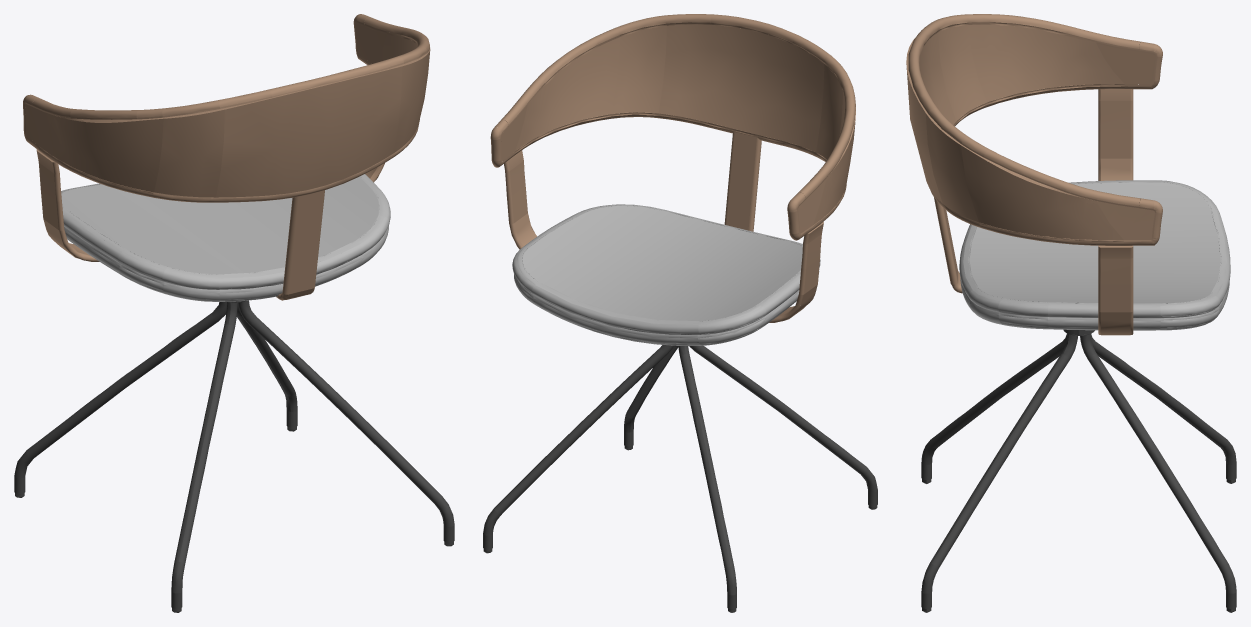
Rendered from Essens Guest Chair.glb.
3 renders of one model, left to right at view 1: azimuth 30°, elevation 25°; view 2: azimuth 150°, elevation 25°; view 3: azimuth 270°, elevation 25°, orthographic. The views are drawn at different scales.
Parts seen in each view (by area): view 1: df989755-7697-4281-a469-14dab05ba5bf_mesh, 472e654b-b107-49b1-8f86-f32826c59a6b_mesh, ab5e10d4-3391-4d24-b1c9-0751b053f0e9_mesh, 65fbc329-5df1-43a7-a289-01534ec56977_mesh, 750cd217-ddae-4460-a5b8-6173e38afa8a_mesh, 2ac7c728-b501-4d92-9ba9-fa154b108b98_mesh, fcffaa4b-a50d-4239-be34-0ad43009071a_mesh, a0c15469-69cb-4008-8df0-9f4902f4c43c_mesh, 4557552d-5c5f-4325-881a-13418b869237_mesh, d65b2289-8940-4a07-b37a-94c6dbf753d3_mesh, 8229e860-2eda-47fc-b237-6de005225120_mesh, 5af8cabd-0a71-4e95-abd0-315912813c74_mesh (+8 smaller); view 2: df989755-7697-4281-a469-14dab05ba5bf_mesh, d39a46cd-2aa3-4b28-b462-6483d8e16e1d_mesh, 65d6b023-7110-4155-bdcf-e92aceaf49bc_mesh, a792d43e-5e61-4ff9-a389-eb07f65f3beb_mesh, dc03fbe6-7523-40bb-8a69-6e8c78cfa367_mesh, e51619b5-43e4-4c76-9559-52b5398546bd_mesh, 8229e860-2eda-47fc-b237-6de005225120_mesh, c6d45098-28c5-46a1-925a-6c357a730522_mesh, caf584e6-b206-4962-9130-6b76134c65a5_mesh, edae9f56-733e-47d4-83b4-dd0292d68fbf_mesh, ab5e10d4-3391-4d24-b1c9-0751b053f0e9_mesh, d29ce7c8-0c7b-4e83-aaf1-3041b3dee3bd_mesh (+11 smaller); view 3: df989755-7697-4281-a469-14dab05ba5bf_mesh, 978d27aa-4005-4933-8d30-a75a227fa3e0_mesh, b74d9bd9-2ed8-4150-a5bb-8c265e19f377_mesh, caf584e6-b206-4962-9130-6b76134c65a5_mesh, a0c15469-69cb-4008-8df0-9f4902f4c43c_mesh, 2a26a502-acf6-4c69-9ed1-ae811173a85c_mesh, fd04c8f7-257c-4b31-87e6-650baad103f9_mesh, edae9f56-733e-47d4-83b4-dd0292d68fbf_mesh, 4557552d-5c5f-4325-881a-13418b869237_mesh, d39a46cd-2aa3-4b28-b462-6483d8e16e1d_mesh, b1c6b838-8728-4e3b-9c0f-d1f42bdbada2_mesh, 90f1ee50-9fd0-4bb9-8737-41ded3208dfe_mesh (+20 smaller).
Part boxes in pixels (x1=…): df989755-7697-4281-a469-14dab05ba5bf_mesh: x1=61, y1=176, x2=379, y2=274; 472e654b-b107-49b1-8f86-f32826c59a6b_mesh: x1=216, y1=66, x2=401, y2=197; ab5e10d4-3391-4d24-b1c9-0751b053f0e9_mesh: x1=39, y1=115, x2=163, y2=192; 65fbc329-5df1-43a7-a289-01534ec56977_mesh: x1=154, y1=109, x2=224, y2=197; 750cd217-ddae-4460-a5b8-6173e38afa8a_mesh: x1=249, y1=318, x2=442, y2=504; 2ac7c728-b501-4d92-9ba9-fa154b108b98_mesh: x1=26, y1=313, x2=218, y2=458; fcffaa4b-a50d-4239-be34-0ad43009071a_mesh: x1=288, y1=190, x2=323, y2=294; a0c15469-69cb-4008-8df0-9f4902f4c43c_mesh: x1=393, y1=55, x2=427, y2=153; 4557552d-5c5f-4325-881a-13418b869237_mesh: x1=178, y1=324, x2=234, y2=564; d65b2289-8940-4a07-b37a-94c6dbf753d3_mesh: x1=218, y1=244, x2=363, y2=289; 8229e860-2eda-47fc-b237-6de005225120_mesh: x1=174, y1=324, x2=228, y2=561; 5af8cabd-0a71-4e95-abd0-315912813c74_mesh: x1=355, y1=23, x2=386, y2=63; df989755-7697-4281-a469-14dab05ba5bf_mesh: x1=523, y1=205, x2=802, y2=321; d39a46cd-2aa3-4b28-b462-6483d8e16e1d_mesh: x1=658, y1=24, x2=824, y2=152; 65d6b023-7110-4155-bdcf-e92aceaf49bc_mesh: x1=515, y1=37, x2=620, y2=151; a792d43e-5e61-4ff9-a389-eb07f65f3beb_mesh: x1=611, y1=25, x2=666, y2=113; dc03fbe6-7523-40bb-8a69-6e8c78cfa367_mesh: x1=494, y1=348, x2=666, y2=515; e51619b5-43e4-4c76-9559-52b5398546bd_mesh: x1=726, y1=132, x2=756, y2=230; 8229e860-2eda-47fc-b237-6de005225120_mesh: x1=695, y1=345, x2=867, y2=474; c6d45098-28c5-46a1-925a-6c357a730522_mesh: x1=532, y1=285, x2=699, y2=334; caf584e6-b206-4962-9130-6b76134c65a5_mesh: x1=816, y1=64, x2=843, y2=159; edae9f56-733e-47d4-83b4-dd0292d68fbf_mesh: x1=680, y1=354, x2=730, y2=568; ab5e10d4-3391-4d24-b1c9-0751b053f0e9_mesh: x1=813, y1=120, x2=855, y2=224; d29ce7c8-0c7b-4e83-aaf1-3041b3dee3bd_mesh: x1=533, y1=298, x2=699, y2=344; df989755-7697-4281-a469-14dab05ba5bf_mesh: x1=969, y1=182, x2=1220, y2=303; 978d27aa-4005-4933-8d30-a75a227fa3e0_mesh: x1=968, y1=24, x2=1124, y2=102; b74d9bd9-2ed8-4150-a5bb-8c265e19f377_mesh: x1=961, y1=145, x2=1123, y2=240; caf584e6-b206-4962-9130-6b76134c65a5_mesh: x1=938, y1=25, x2=986, y2=120; a0c15469-69cb-4008-8df0-9f4902f4c43c_mesh: x1=925, y1=113, x2=978, y2=222; 2a26a502-acf6-4c69-9ed1-ae811173a85c_mesh: x1=931, y1=354, x2=1069, y2=568; fd04c8f7-257c-4b31-87e6-650baad103f9_mesh: x1=1088, y1=354, x2=1226, y2=568; edae9f56-733e-47d4-83b4-dd0292d68fbf_mesh: x1=1094, y1=342, x2=1228, y2=448; 4557552d-5c5f-4325-881a-13418b869237_mesh: x1=929, y1=342, x2=1063, y2=448; d39a46cd-2aa3-4b28-b462-6483d8e16e1d_mesh: x1=919, y1=32, x2=956, y2=124; b1c6b838-8728-4e3b-9c0f-d1f42bdbada2_mesh: x1=1096, y1=43, x2=1154, y2=84; 90f1ee50-9fd0-4bb9-8737-41ded3208dfe_mesh: x1=1097, y1=201, x2=1154, y2=239.
Bounding box in the file's own units: 0.5823 × 0.8193 × 0.5001.
